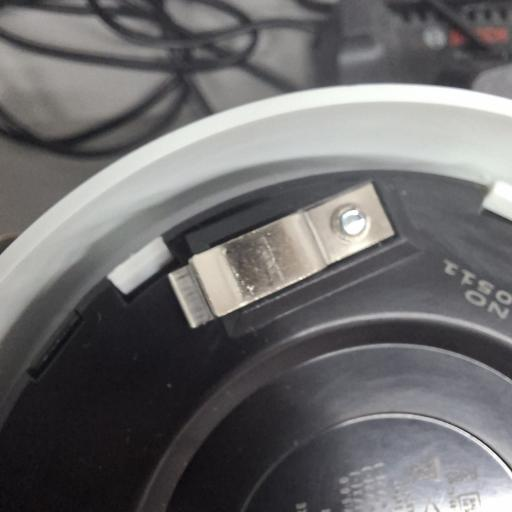yayli: (170, 182, 397, 329)
